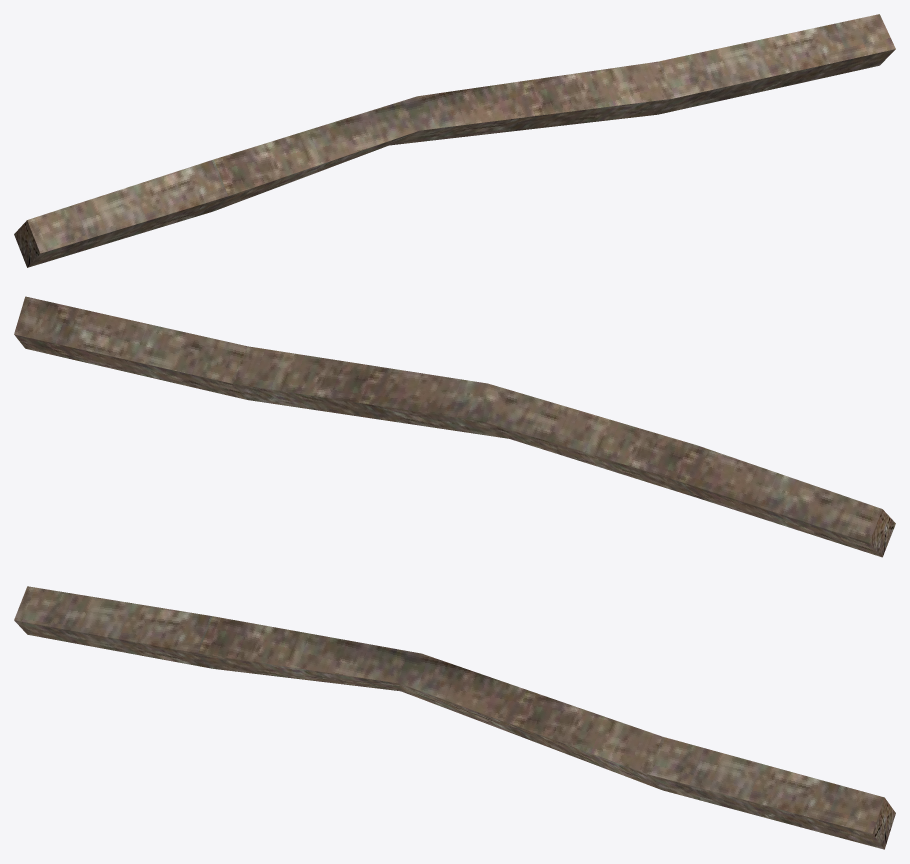
File: lf_wooden_fence_beam.glb
The picture shows the model from 3 angles, top to bottom: view 1: azimuth 30°, elevation 25°; view 2: azimuth 150°, elevation 25°; view 3: azimuth 330°, elevation 25°; orthographic projection.
Parts seen in each view (by area): view 1: wooden_fence_beam; view 2: wooden_fence_beam; view 3: wooden_fence_beam.
Part boxes in pixels (x1,y1,x2,y2): wooden_fence_beam: (14,14,895,267); wooden_fence_beam: (14,296,895,557); wooden_fence_beam: (14,586,895,849).
Bounding box in the file's own units: 2 × 0.1785 × 0.128.
Materials: 1 (1 with a texture image).
